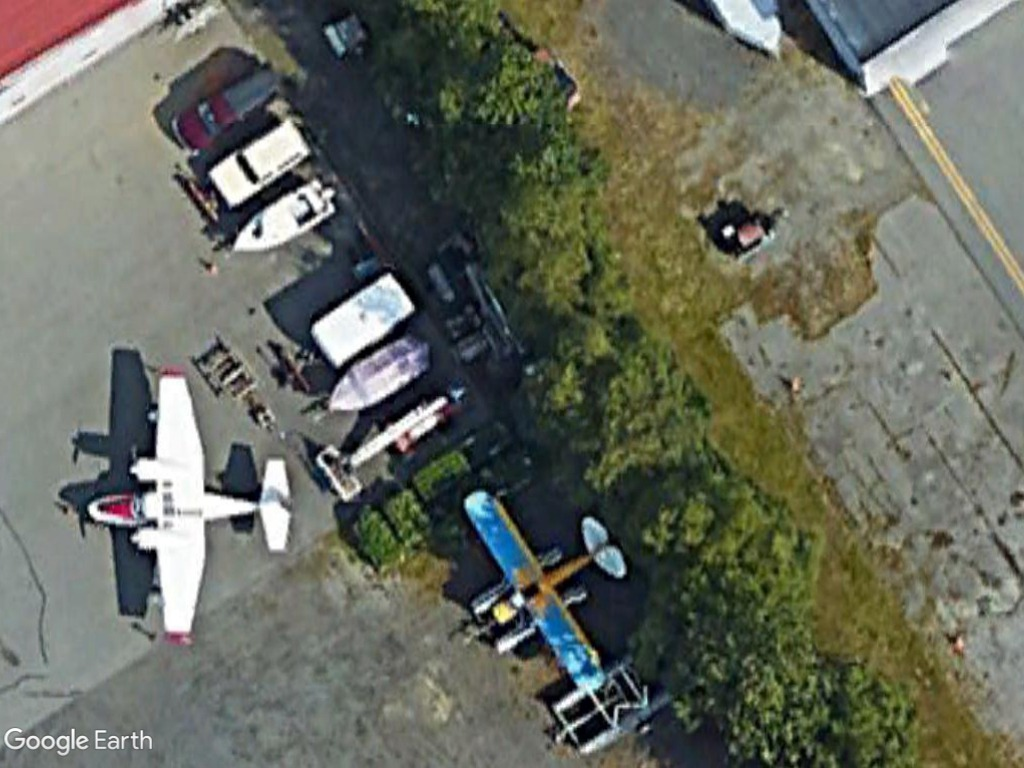boat: (318, 333, 435, 421), (224, 175, 337, 260)
car: (201, 118, 318, 212)
propeller: (89, 354, 300, 652)
trainer: (457, 476, 631, 707)
